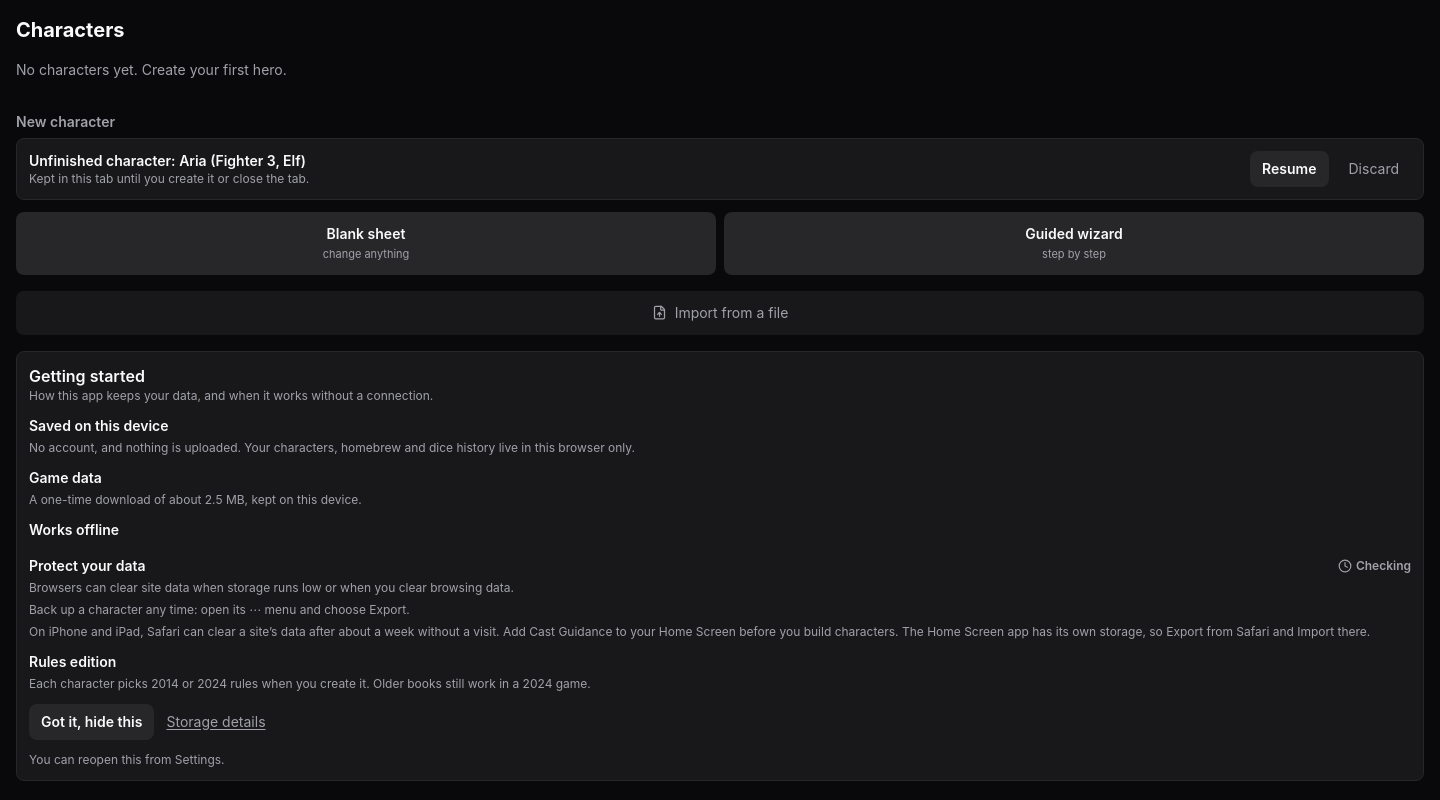
Test: the unfinished draft card › discards the draft with an undo that puts all of it back
Click the button "Discard": point(1374, 169) [1336,151,1411,187]
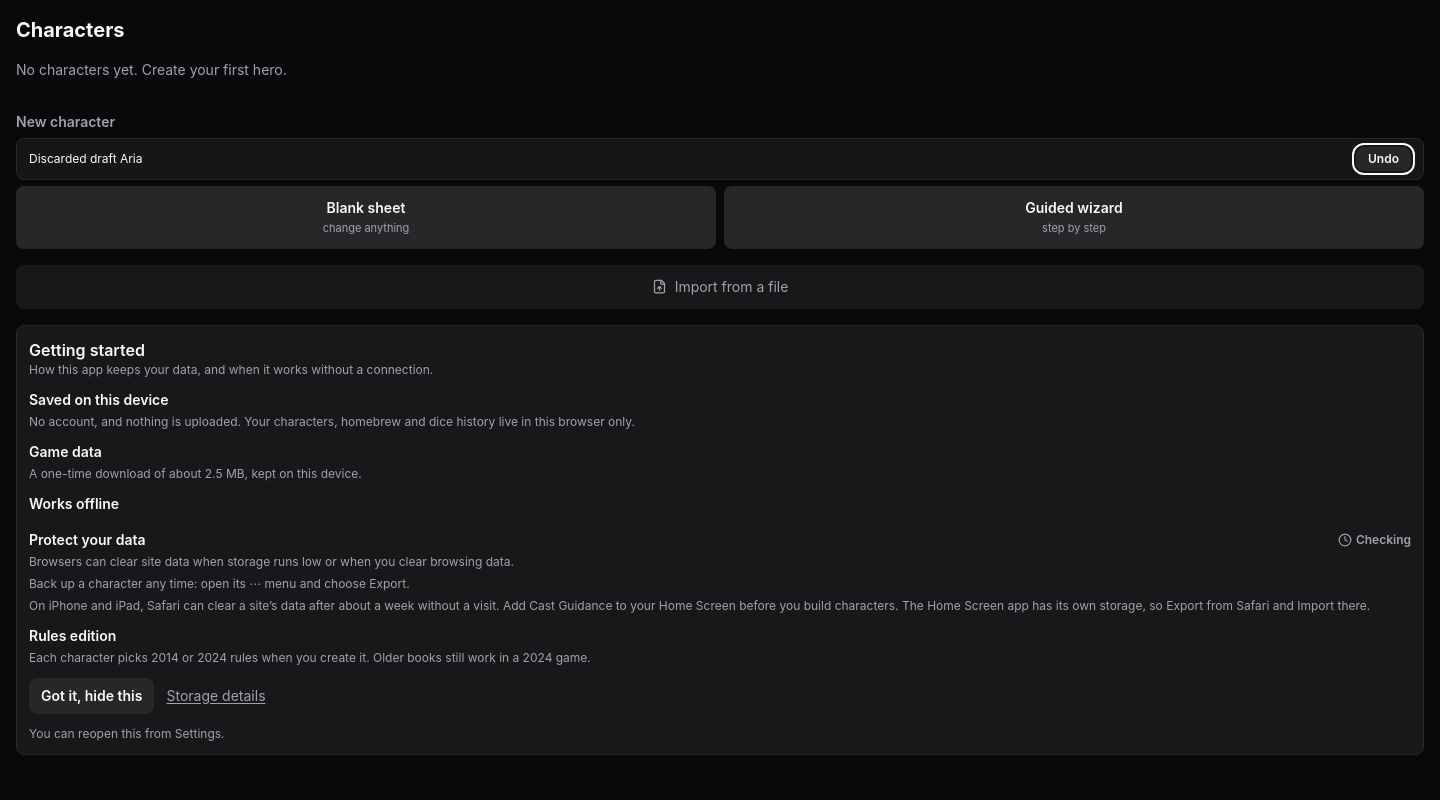
Check: the text "Unfinished character" is gone
Click the button with aria-label "Undo: Discarded draft Aria": point(1384, 159) [1356,147,1411,171]
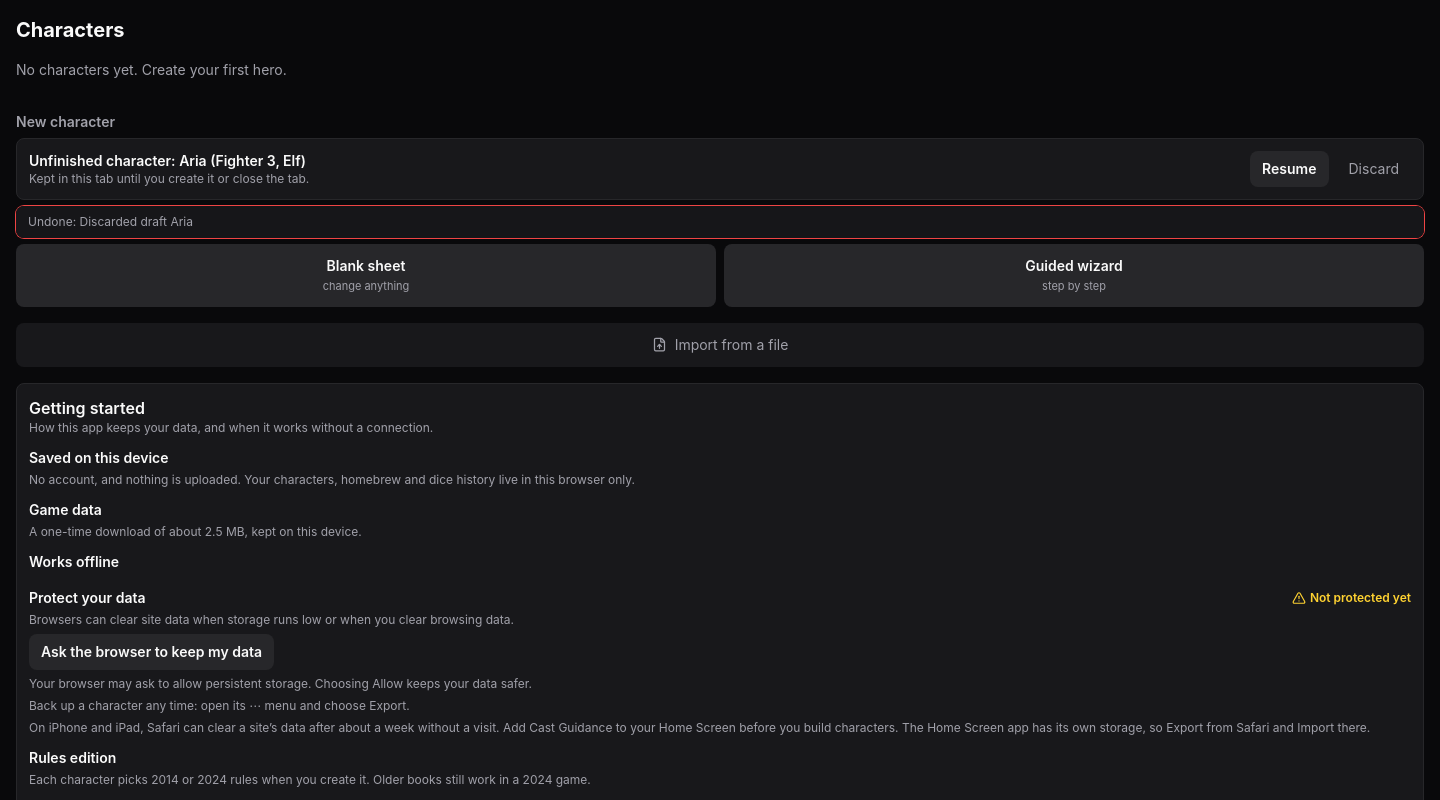
Check: the text "Unfinished character: Aria (Fighter 3, Elf)" is shown, box [29,152,306,169]
